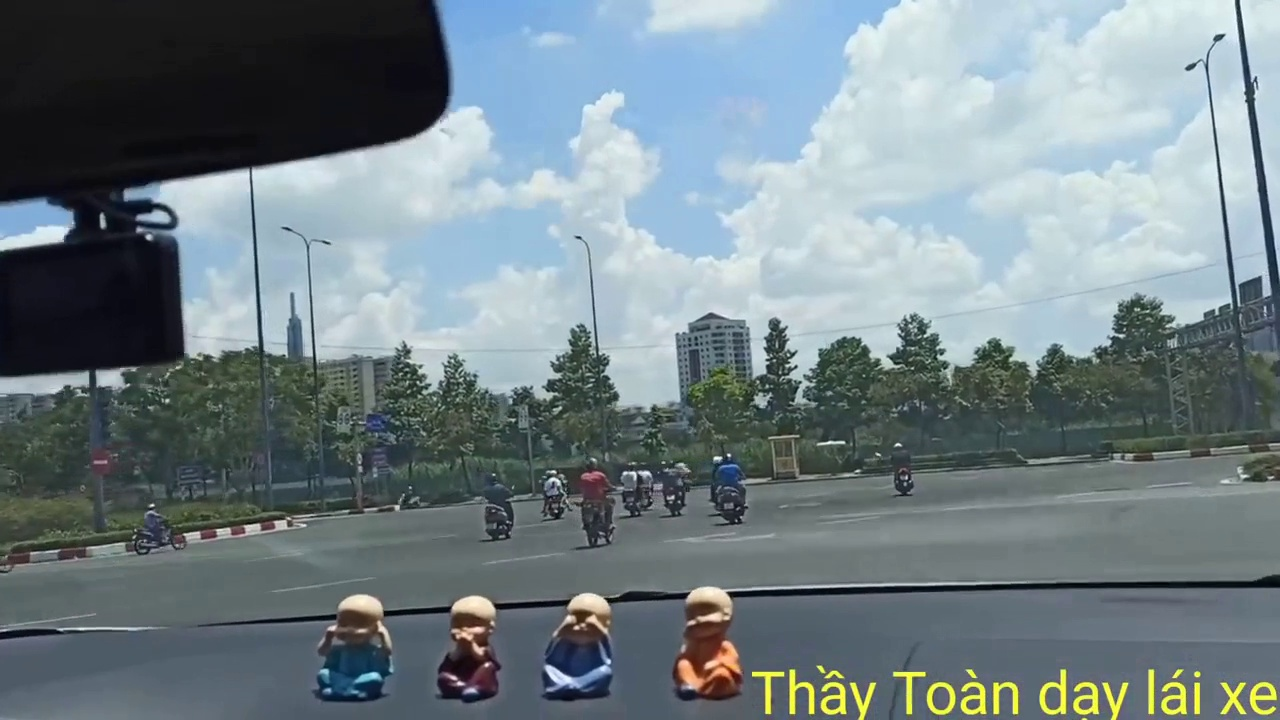Cấm các phương tiện quy định theo khung giờ: (335, 403, 354, 438)
Cấm đi ngược chiều: (89, 445, 116, 477)
Làn đường cho từng xe: (362, 407, 391, 437)
